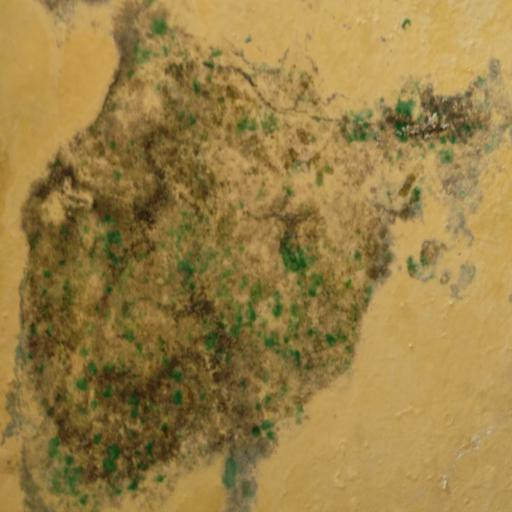algae: (26, 20, 493, 489)
